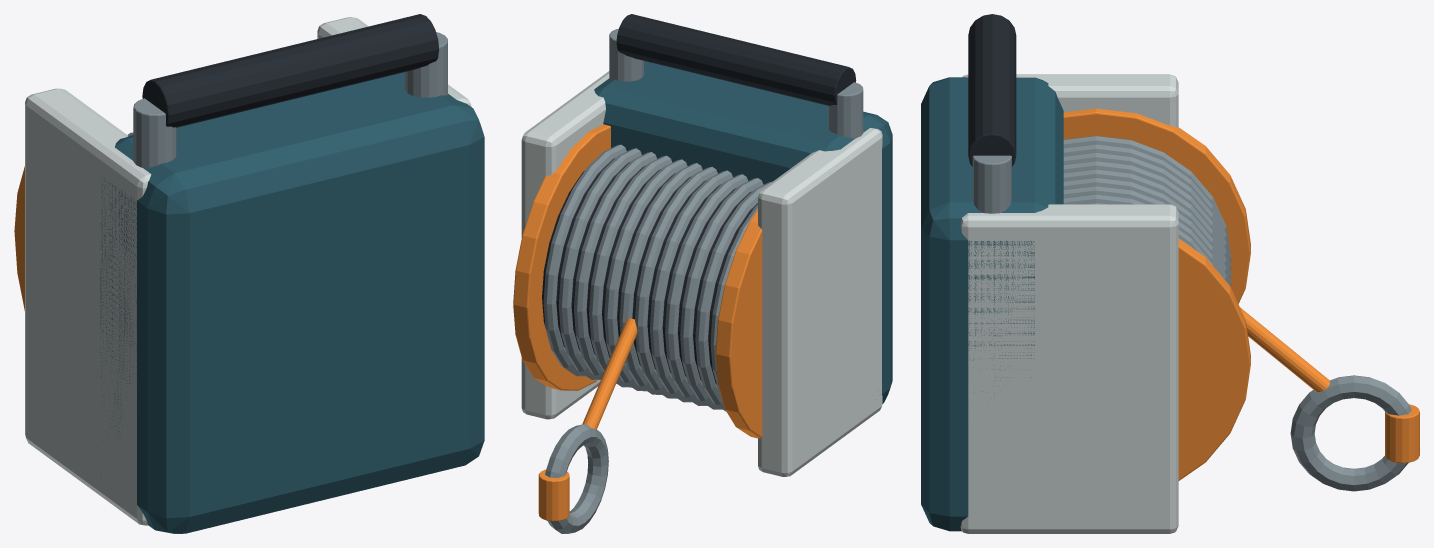
File: eva_winch.glb
3 views of the same model, side by side, from view 1: azimuth 30°, elevation 25°; view 2: azimuth 150°, elevation 25°; view 3: azimuth 270°, elevation 25° (orthographic). The views are drawn at different scales.
Visible parts, largest first — view 1: eva_winch_mesh, winch_drum_mesh; view 2: eva_winch_mesh, winch_drum_mesh; view 3: eva_winch_mesh, winch_drum_mesh.
Boxes of the visible parts, left/top/right/bottom form: eva_winch_mesh: left=25, top=14, right=484, bottom=533; winch_drum_mesh: left=14, top=132, right=133, bottom=310; eva_winch_mesh: left=521, top=14, right=892, bottom=533; winch_drum_mesh: left=513, top=124, right=772, bottom=438; eva_winch_mesh: left=921, top=14, right=1419, bottom=533; winch_drum_mesh: left=1063, top=108, right=1250, bottom=480.
Bounding box in the file's own units: 0.32 × 0.42 × 0.455.
